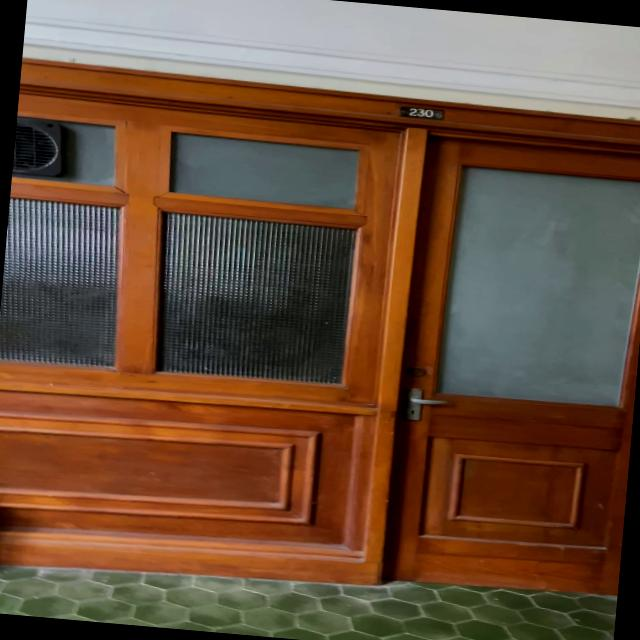room230: (398, 104, 445, 121)
